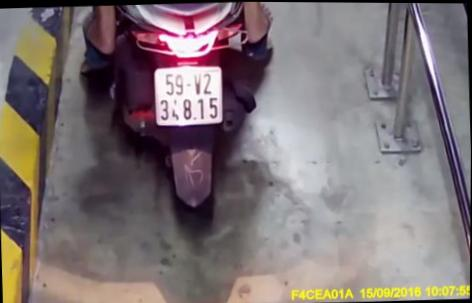LP: (152, 61, 226, 129)
